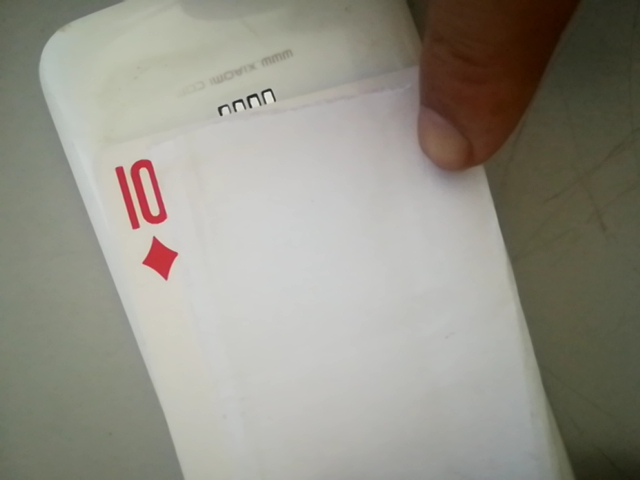fk 10: (107, 153, 188, 282)
